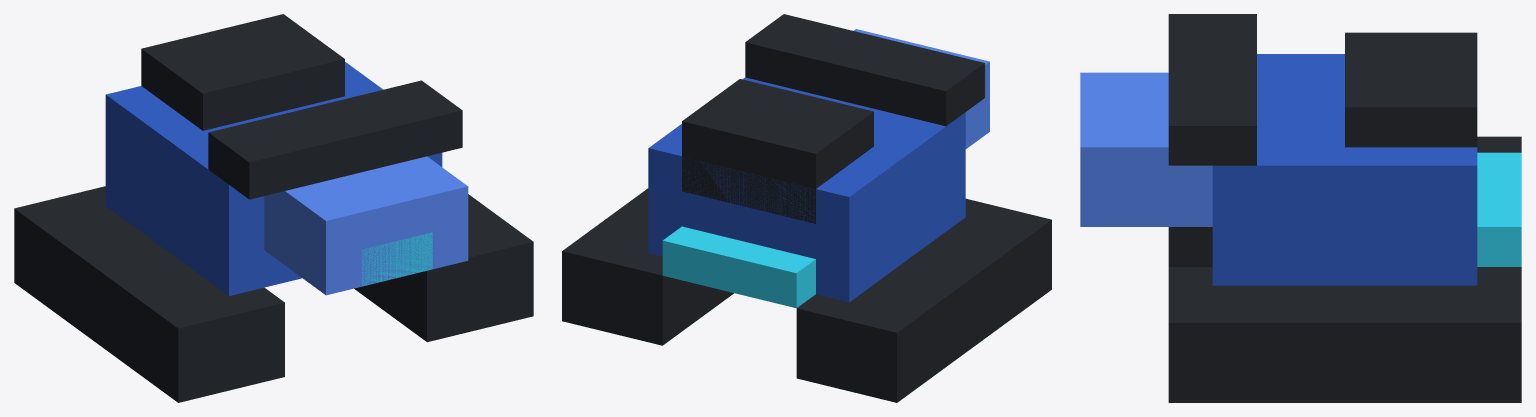
Rendered from veh_hoverbike.glb.
3 renders of one model, left to right at view 1: azimuth 30°, elevation 25°; view 2: azimuth 150°, elevation 25°; view 3: azimuth 270°, elevation 25°, orthographic. The views are drawn at different scales.
Visible parts, largest first — view 1: Pad mesh, Body mesh, Fairing mesh, Bar mesh, Seat mesh, Light mesh; view 2: Pad mesh, Body mesh, Seat mesh, Bar mesh, Thruster mesh, Fairing mesh; view 3: Pad mesh, Body mesh, Fairing mesh, Seat mesh, Bar mesh, Thruster mesh.
Part boxes in pixels (box(x1,y1,x2,y2)): Pad mesh: box(14, 186, 533, 402); Body mesh: box(105, 62, 442, 295); Fairing mesh: box(264, 156, 468, 295); Bar mesh: box(208, 80, 462, 199); Seat mesh: box(141, 14, 344, 130); Light mesh: box(361, 232, 432, 286); Pad mesh: box(562, 188, 1051, 402); Body mesh: box(648, 77, 965, 302); Seat mesh: box(682, 79, 873, 223); Bar mesh: box(745, 14, 984, 126); Thruster mesh: box(662, 226, 815, 308); Fairing mesh: box(853, 29, 989, 148); Pad mesh: box(1168, 136, 1521, 402); Body mesh: box(1212, 54, 1477, 285); Fairing mesh: box(1080, 72, 1212, 226); Seat mesh: box(1345, 32, 1477, 147); Bar mesh: box(1168, 14, 1256, 165); Thruster mesh: box(1477, 152, 1521, 266).
Size of the model in its own units: 10 by 6 by 10.
1 material, 1 textured.
